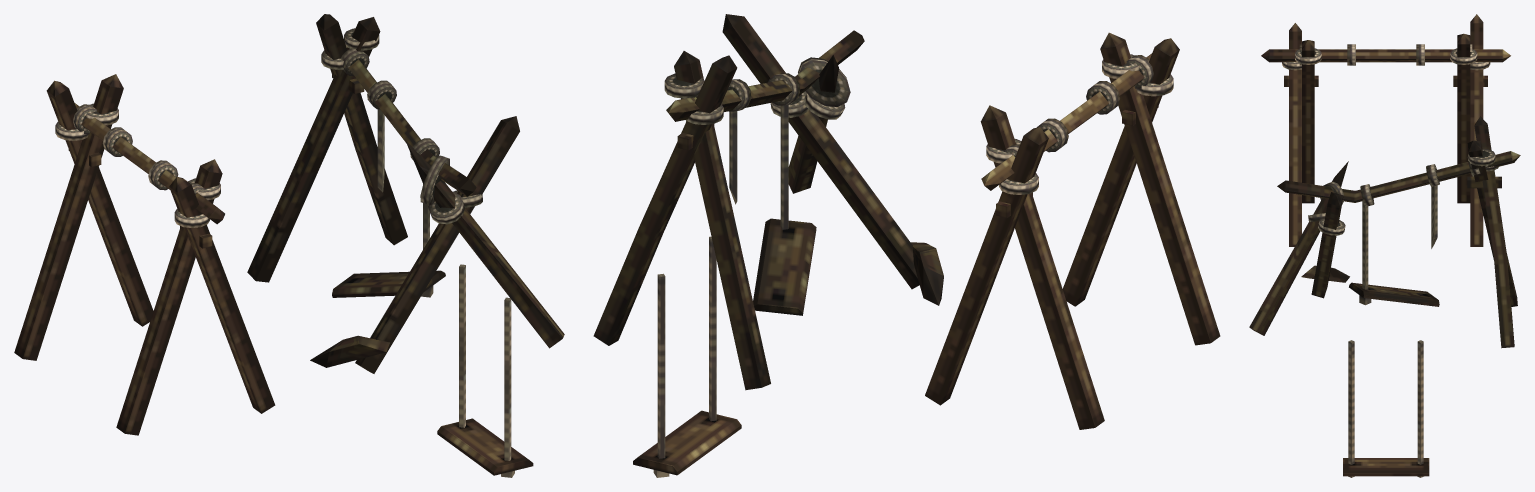
File: EnvObjMD_Swing_A.FBX
3 views of the same model, side by side, from view 1: azimuth 30°, elevation 25°; view 2: azimuth 150°, elevation 25°; view 3: azimuth 270°, elevation 25° (orthographic). The views are drawn at different scales.
Parts seen in each view (by area): view 1: EnvObjMD_Swing_A_Broken, EnvObjMD_Swing_A, EnvObjMD_Swing_A_Seat; view 2: EnvObjMD_Swing_A_Broken, EnvObjMD_Swing_A, EnvObjMD_Swing_A_Seat; view 3: EnvObjMD_Swing_A_Broken, EnvObjMD_Swing_A, EnvObjMD_Swing_A_Seat.
Part boxes in pixels (bbox=[...]): EnvObjMD_Swing_A_Broken: bbox=[247, 14, 564, 373]; EnvObjMD_Swing_A: bbox=[14, 74, 275, 435]; EnvObjMD_Swing_A_Seat: bbox=[437, 264, 533, 477]; EnvObjMD_Swing_A_Broken: bbox=[593, 14, 943, 390]; EnvObjMD_Swing_A: bbox=[925, 32, 1220, 429]; EnvObjMD_Swing_A_Seat: bbox=[633, 236, 741, 477]; EnvObjMD_Swing_A_Broken: bbox=[1249, 116, 1520, 348]; EnvObjMD_Swing_A: bbox=[1261, 14, 1510, 246]; EnvObjMD_Swing_A_Seat: bbox=[1343, 340, 1429, 477].
Size of the model in its own units: 443 by 413 by 314.
